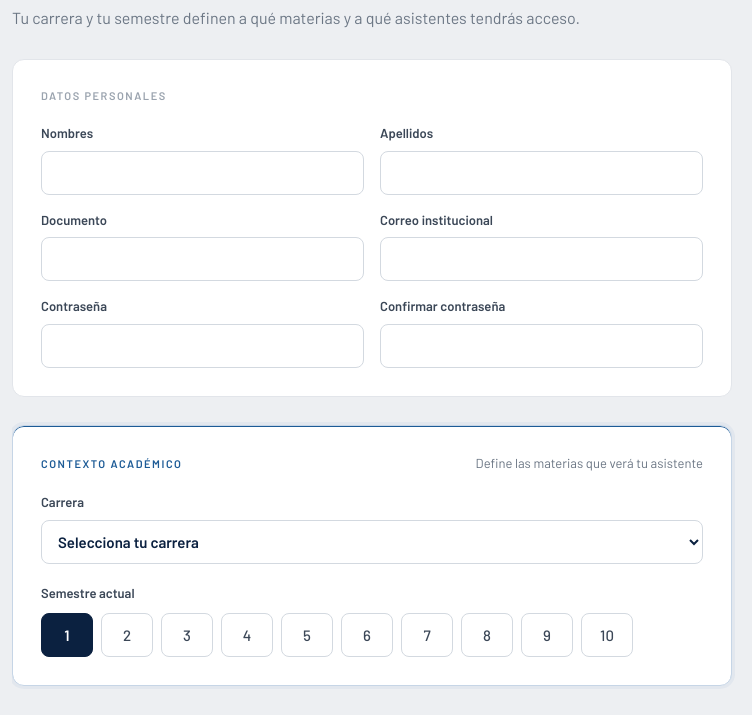
RegisterForm › recomputes the assistant preview when program and semester change
Select "Ingeniería en Software" in the dropdown labelled "Carrera" at coordinates (372, 542), box [41,520,703,564]
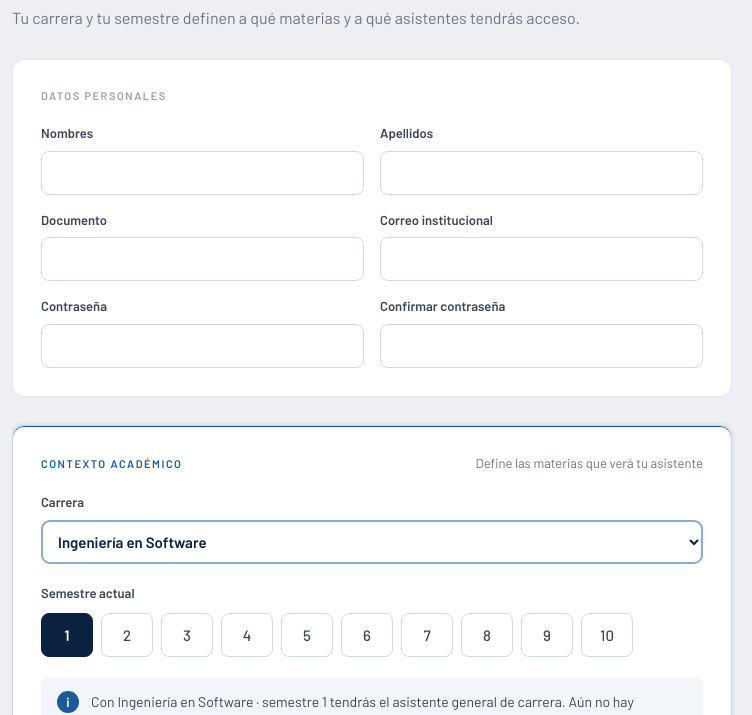
Click the button "5".
click(307, 636)  # box [281,614,333,658]
(page scrolled)
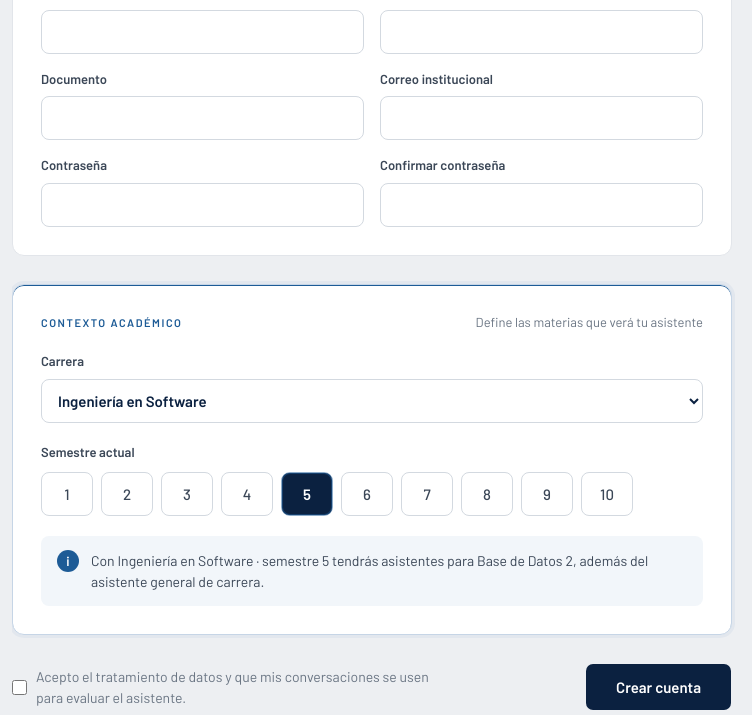
Check: the text "tendrás asistentes para Base de Datos 2" is shown, box [91,552,648,590]
